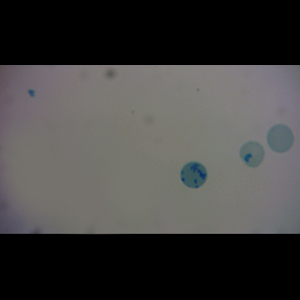aggregate reticulocyte: (180, 161, 208, 189)
erythrocyte: (266, 123, 295, 153), (239, 140, 266, 169)
